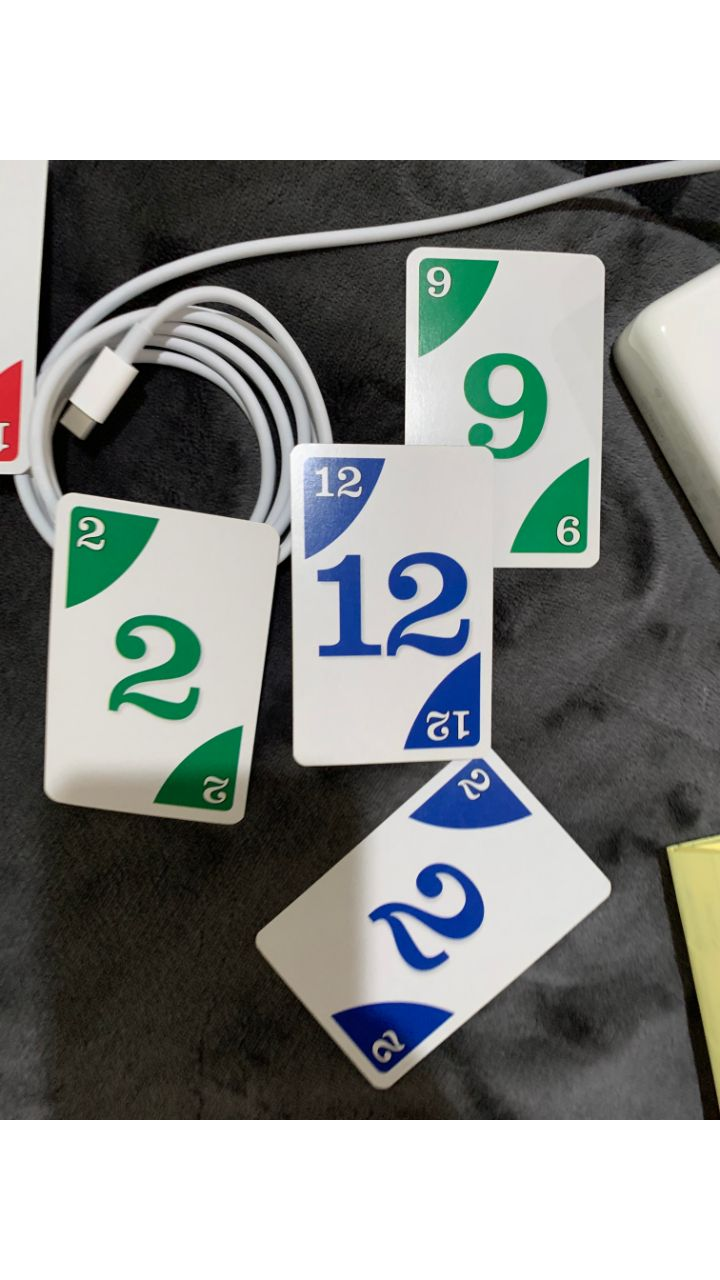nine: (401, 247, 604, 570)
twelve: (287, 441, 499, 770)
two: (258, 752, 614, 1085), (39, 490, 277, 826)
